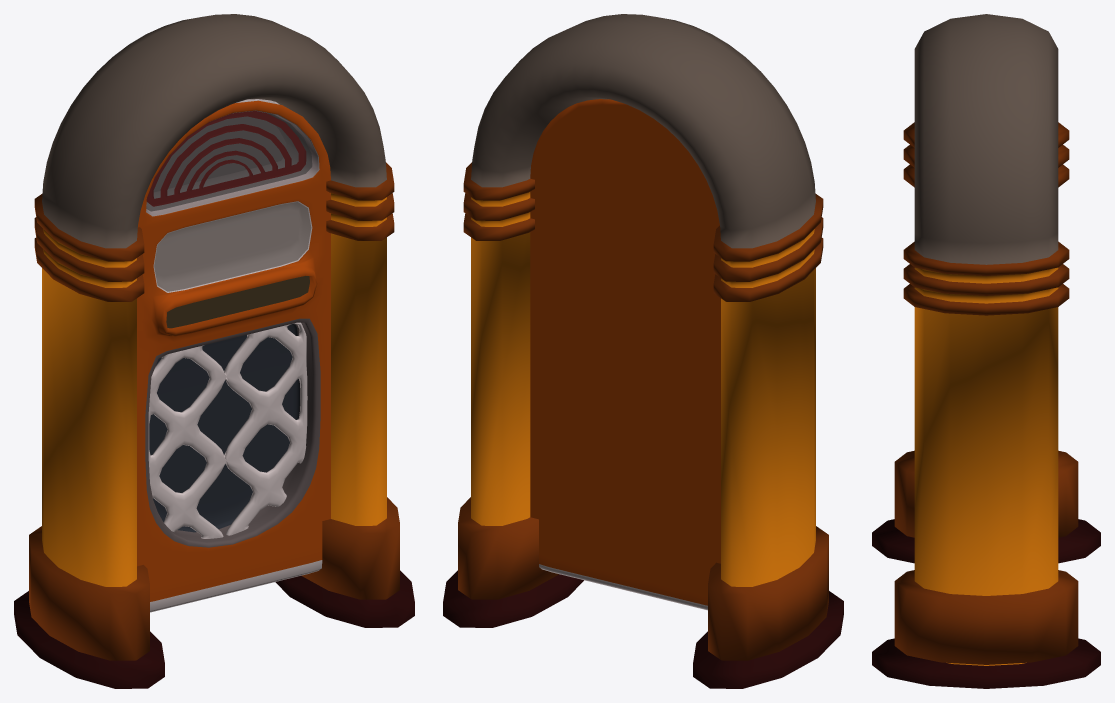
The model's file is Jukebox_Base.glb.
3 views of the same model, side by side, from view 1: azimuth 30°, elevation 25°; view 2: azimuth 150°, elevation 25°; view 3: azimuth 270°, elevation 25° (orthographic). The views are drawn at different scales.
Parts seen in each view (by area): view 1: JukeBox_Base; view 2: JukeBox_Base; view 3: JukeBox_Base.
Boxes of the visible parts, x1,y1,x2,y2 form: JukeBox_Base: (14,14,414,688); JukeBox_Base: (443,14,843,688); JukeBox_Base: (872,14,1100,688).
Size of what is drawn, in the model's own units: 2.43 by 3.91 by 1.41.
Materials: 4 (4 with a texture image).
